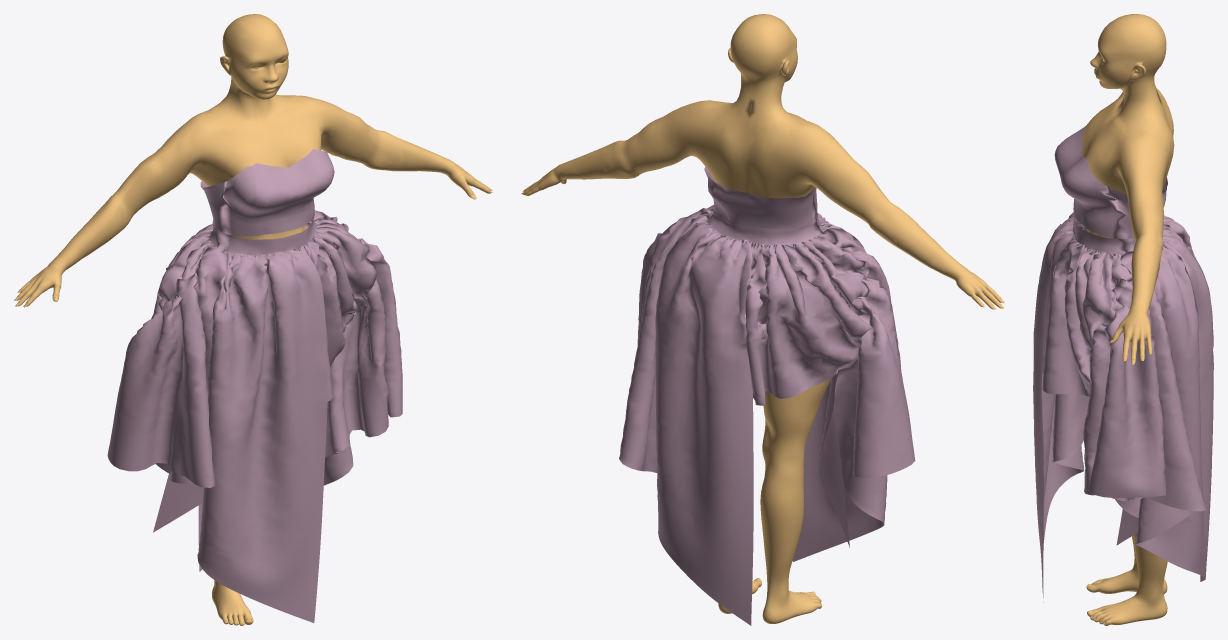
The model's file is dress8.glb.
3 views of the same model, side by side, from view 1: azimuth 30°, elevation 25°; view 2: azimuth 150°, elevation 25°; view 3: azimuth 270°, elevation 25° (orthographic).
Parts seen in each view (by area): view 1: Project 1, Body; view 2: Project 1, Body; view 3: Project 1, Body.
Boxes of the visible parts, x1,y1,x2,y2 form: Project 1: (107, 149, 402, 622); Body: (16, 14, 492, 625); Project 1: (619, 167, 915, 625); Body: (523, 14, 1001, 623); Project 1: (1033, 126, 1213, 602); Body: (1081, 14, 1174, 625).
Bounding box in the file's own units: 1.58 × 1.85 × 0.5151.
